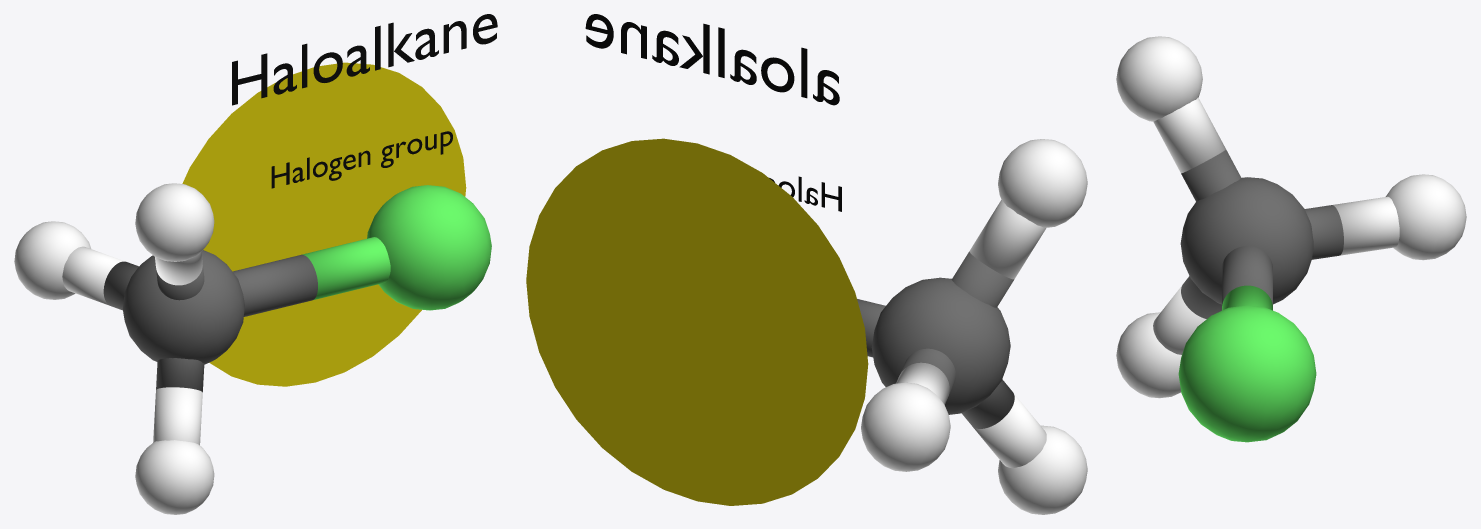
Rendered from 6haloalkane.glb.
3 views of the same model, side by side, from view 1: azimuth 30°, elevation 25°; view 2: azimuth 150°, elevation 25°; view 3: azimuth 270°, elevation 25° (orthographic). The views are drawn at different scales.
Parts seen in each view (by area): view 1: Shape_IndexedFaceSet_2, Circle_0, Text.001_4, Text.003_5; view 2: Circle_0, Shape_IndexedFaceSet_2, Text.001_4; view 3: Shape_IndexedFaceSet_2.
Boxes of the visible parts, x1,y1,x2,y2 form: Shape_IndexedFaceSet_2: (14,183,491,514); Circle_0: (182,62,466,386); Text.001_4: (232,14,497,105); Text.003_5: (271,131,452,188); Circle_0: (526,138,868,505); Shape_IndexedFaceSet_2: (857,139,1087,514); Text.001_4: (585,14,839,105); Shape_IndexedFaceSet_2: (1116,36,1466,442).
Bounding box in the file's own units: 1.34 × 1.24 × 0.9109.
